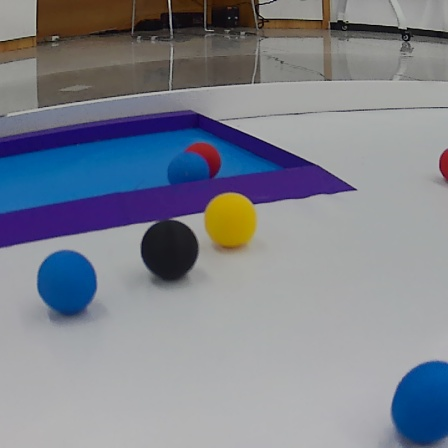black: (137, 216, 199, 282)
blue: (380, 359, 448, 447), (37, 249, 111, 321), (167, 153, 209, 187)
blue_aim: (2, 110, 368, 256)
red: (184, 143, 229, 183)
yellow: (206, 193, 261, 252)
